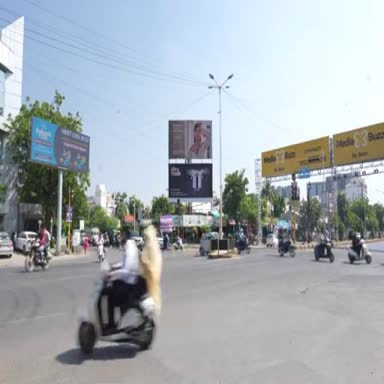Car: (15, 232, 38, 254), (200, 232, 218, 256), (0, 232, 13, 258), (128, 231, 143, 250), (266, 234, 278, 247), (158, 237, 164, 249)
